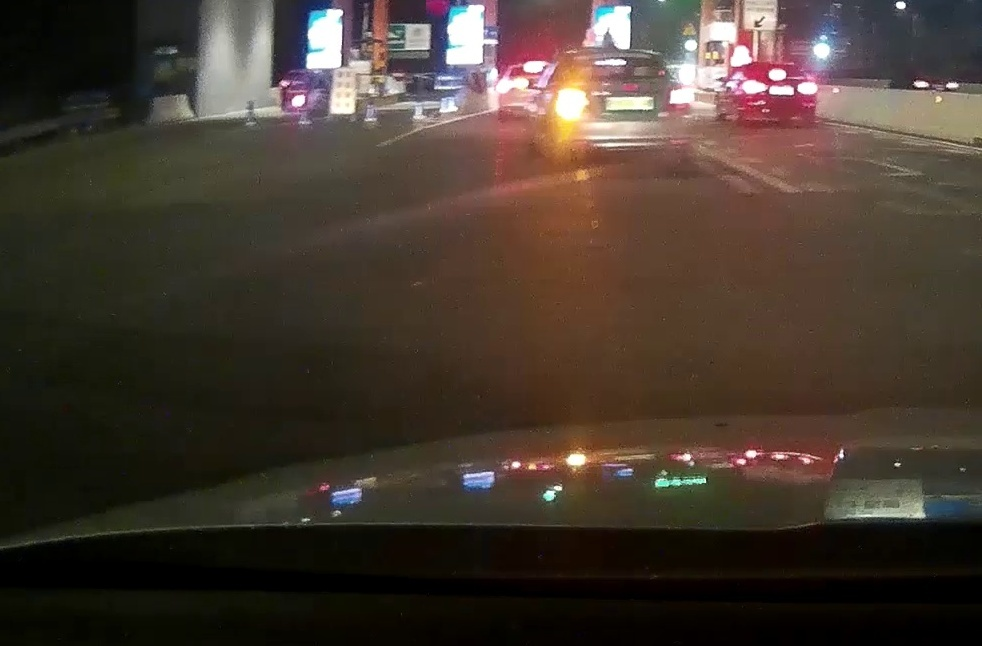L_light: (555, 86, 590, 118), (741, 80, 767, 95)
R_light: (669, 87, 693, 104), (797, 82, 817, 94)
T_light: (595, 58, 626, 66), (767, 72, 787, 77)
night-brake: (736, 61, 818, 125)
night-left: (550, 46, 695, 160)
